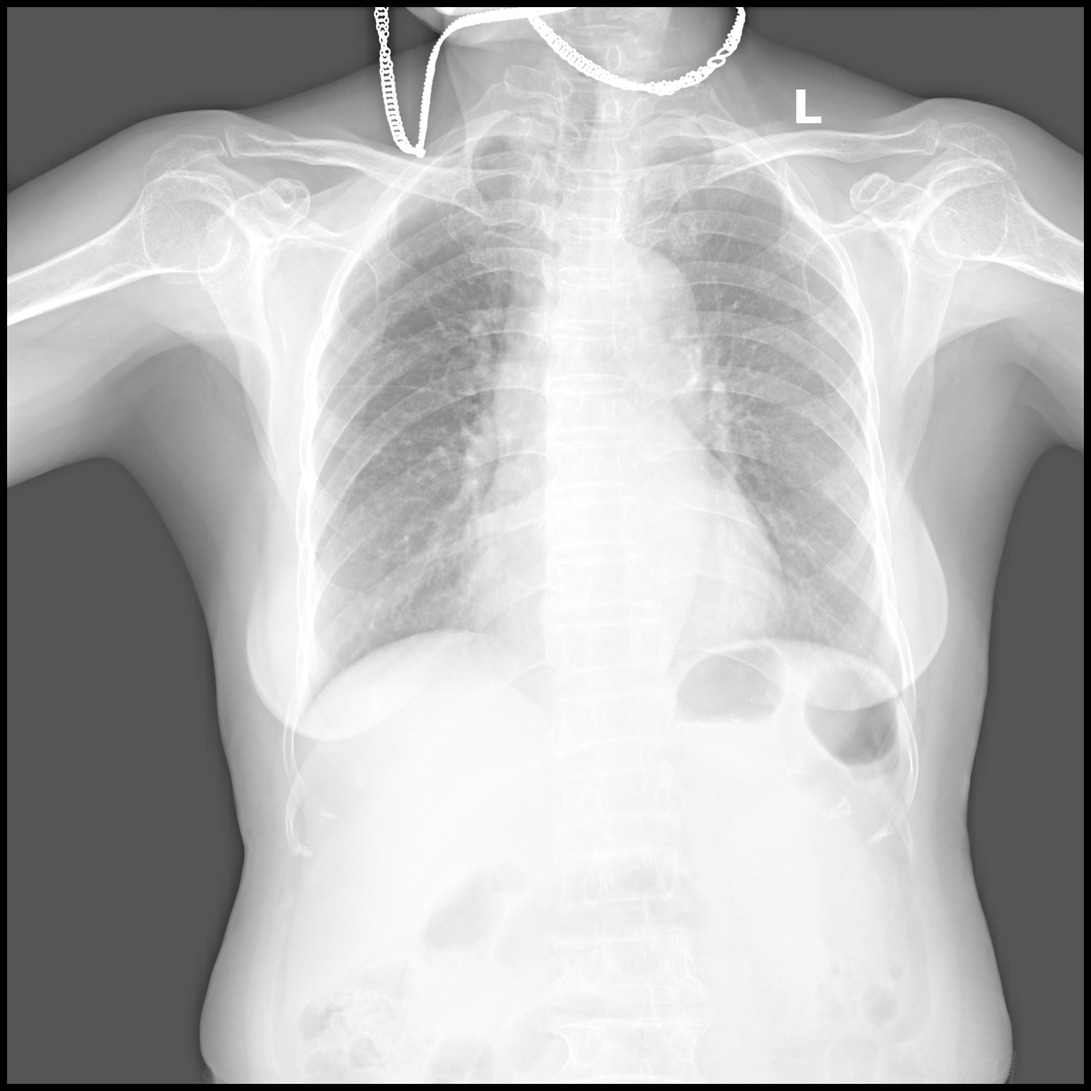Aortic enlargement: (590, 246, 701, 366)
Cardiomegaly: (461, 539, 786, 648)
Pleural thickening: (446, 135, 548, 156), (654, 133, 737, 150)
